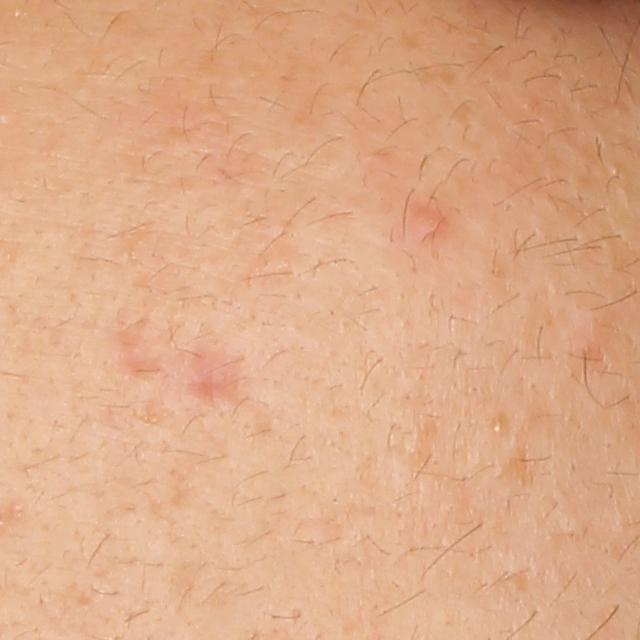comedo: (487, 414, 503, 435)
papule: (406, 203, 448, 236)
